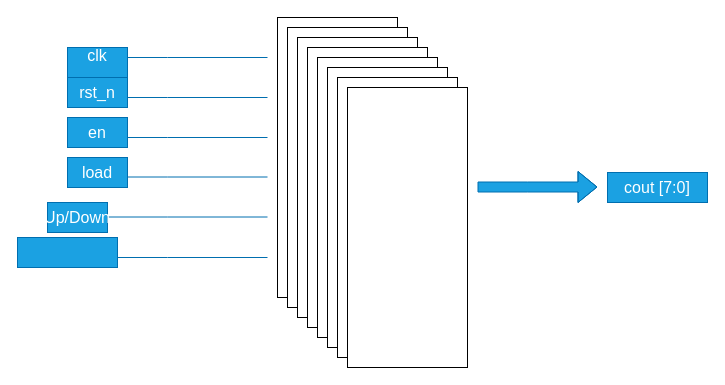
This 725x385 diagram has some shape labels left out. The centre of each missing label's shape, as x and y in pixels:
"8 bit Up/Down Counter" goes at [407,227].
"load_val [7:0]" goes at [67,252].
